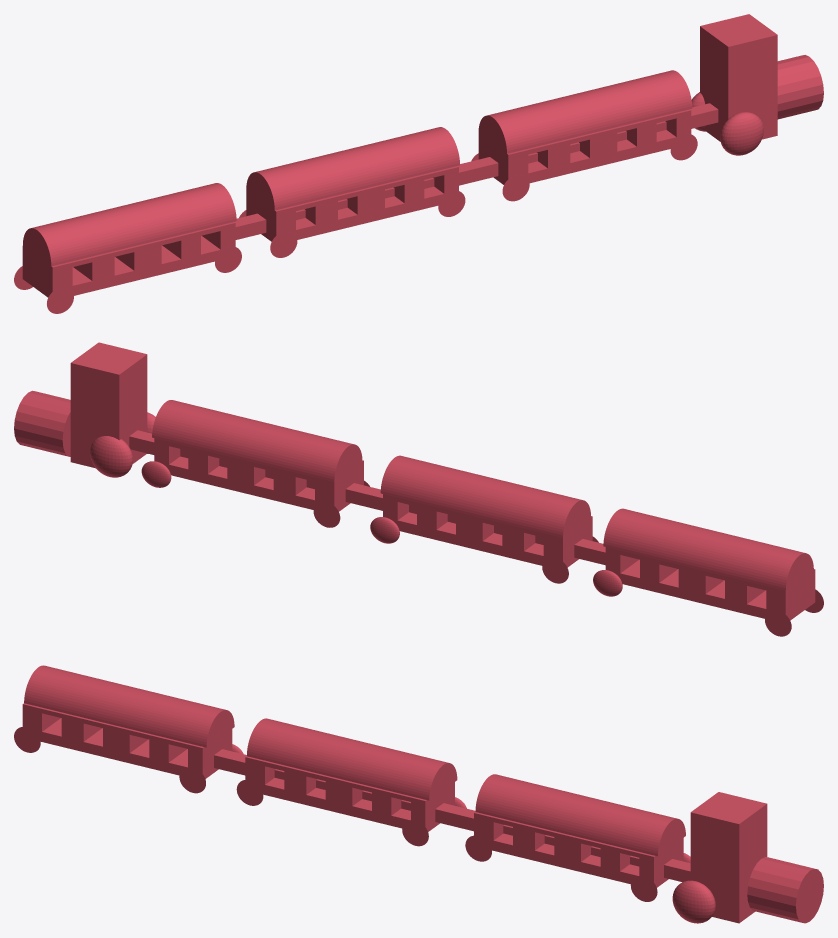
Rendered from Ingenious Gogo.glb.
The picture shows the model from 3 angles, top to bottom: view 1: azimuth 30°, elevation 25°; view 2: azimuth 150°, elevation 25°; view 3: azimuth 330°, elevation 25°; orthographic projection.
Parts seen in each view (by area): view 1: Mesh_Mesh_head_geo.001_lambert2SG.001; view 2: Mesh_Mesh_head_geo.001_lambert2SG.001; view 3: Mesh_Mesh_head_geo.001_lambert2SG.001.
Boxes of the visible parts, x1,y1,x2,y2 form: Mesh_Mesh_head_geo.001_lambert2SG.001: (14,14,823,313); Mesh_Mesh_head_geo.001_lambert2SG.001: (14,342,823,636); Mesh_Mesh_head_geo.001_lambert2SG.001: (14,665,823,923).
Bounding box in the file's own units: 318 × 41 × 32.99.
